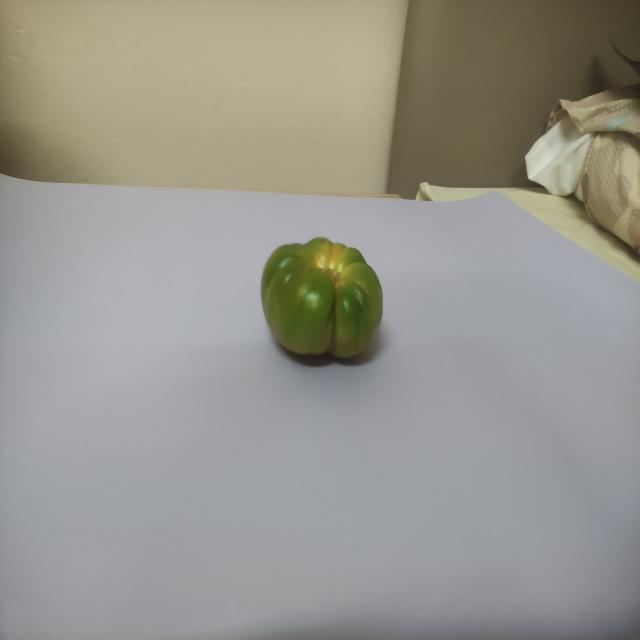yesil: (242, 227, 403, 367)
